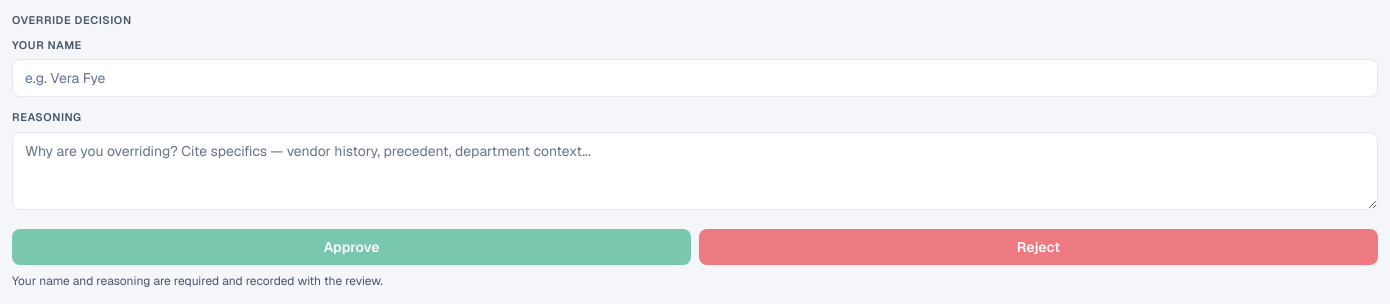
Test: OverrideForm › disables submit buttons until both name and reasoning are non-empty
Check: the button "Approve" is disabled, box [12,228,691,264]
Check: the button "Reject" is disabled, box [699,228,1378,264]
Replace the text in the text box with placeholder "Why are you overriding" with "vendor history fine" at (695, 170), box [12,132,1378,210]
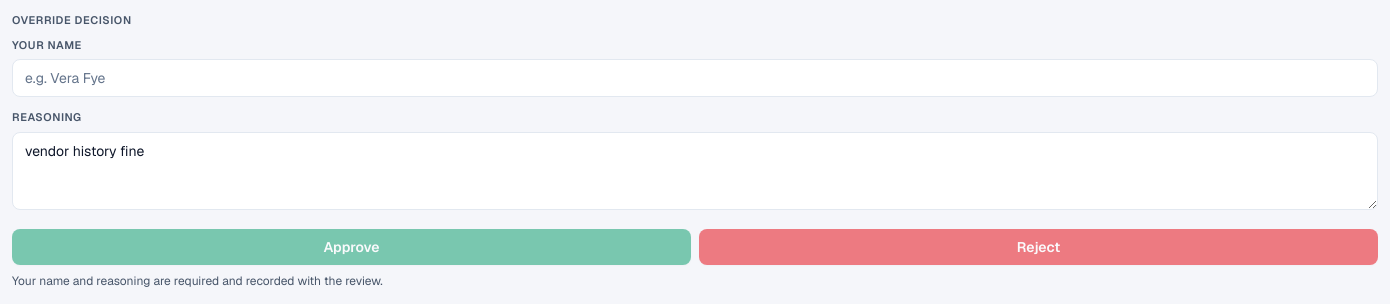
Check: the button "Approve" is disabled, box [12,228,691,264]
Type "Vera Fye" into the field with placeholder "e.g. Vera Fye".
click(695, 78); type("Vera Fye")  # box [12,59,1378,97]
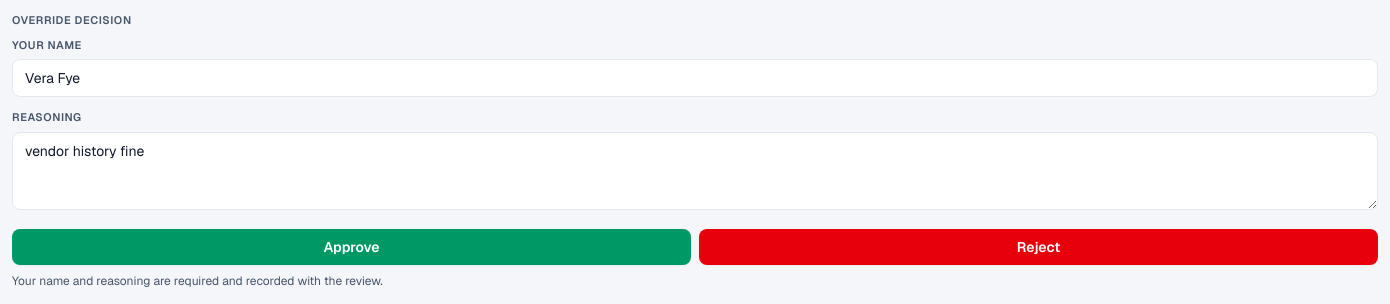
Check: the button "Approve" is enabled, box [12,228,691,264]
